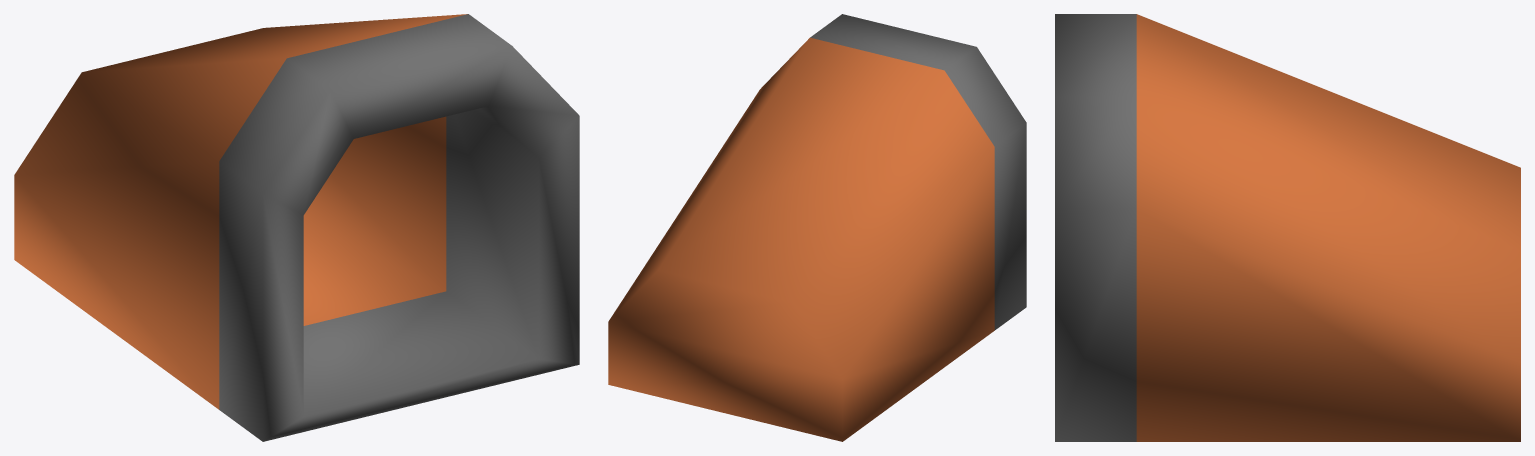
Rendered from choochootunnel.fbx.
The picture shows the model from 3 angles, left to right: view 1: azimuth 30°, elevation 25°; view 2: azimuth 150°, elevation 25°; view 3: azimuth 270°, elevation 25°; orthographic projection. The views are drawn at different scales.
Parts seen in each view (by area): view 1: Cube; view 2: Cube; view 3: Cube.
Boxes of the visible parts, x1,y1,x2,y2 form: Cube: (14, 14, 579, 441); Cube: (608, 14, 1026, 441); Cube: (1055, 14, 1520, 441).
Bounding box in the file's own units: 11.41 × 8.39 × 8.48.
